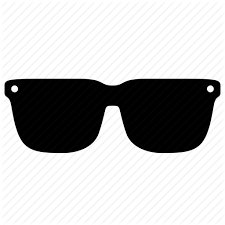bag: (44, 20, 177, 205)
